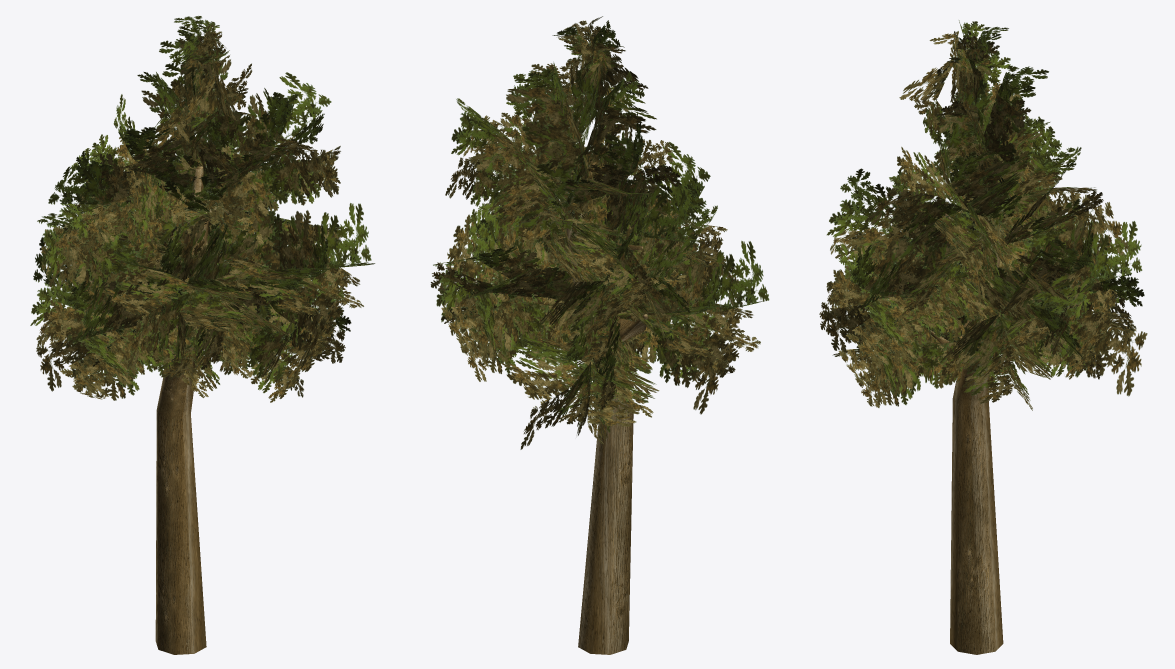
The model's file is tree.glb.
The picture shows the model from 3 angles, left to right: view 1: azimuth 30°, elevation 25°; view 2: azimuth 150°, elevation 25°; view 3: azimuth 270°, elevation 25°; orthographic projection.
Parts seen in each view (by area): view 1: tree-stylized-04-green; view 2: tree-stylized-04-green; view 3: tree-stylized-04-green.
Boxes of the visible parts, x1=… form: tree-stylized-04-green: x1=30, y1=16, x2=375, y2=654; tree-stylized-04-green: x1=430, y1=16, x2=769, y2=654; tree-stylized-04-green: x1=819, y1=20, x2=1147, y2=654.
Size of the model in its own units: 9 by 16.89 by 8.61.
Materials: 2 (2 with a texture image).
